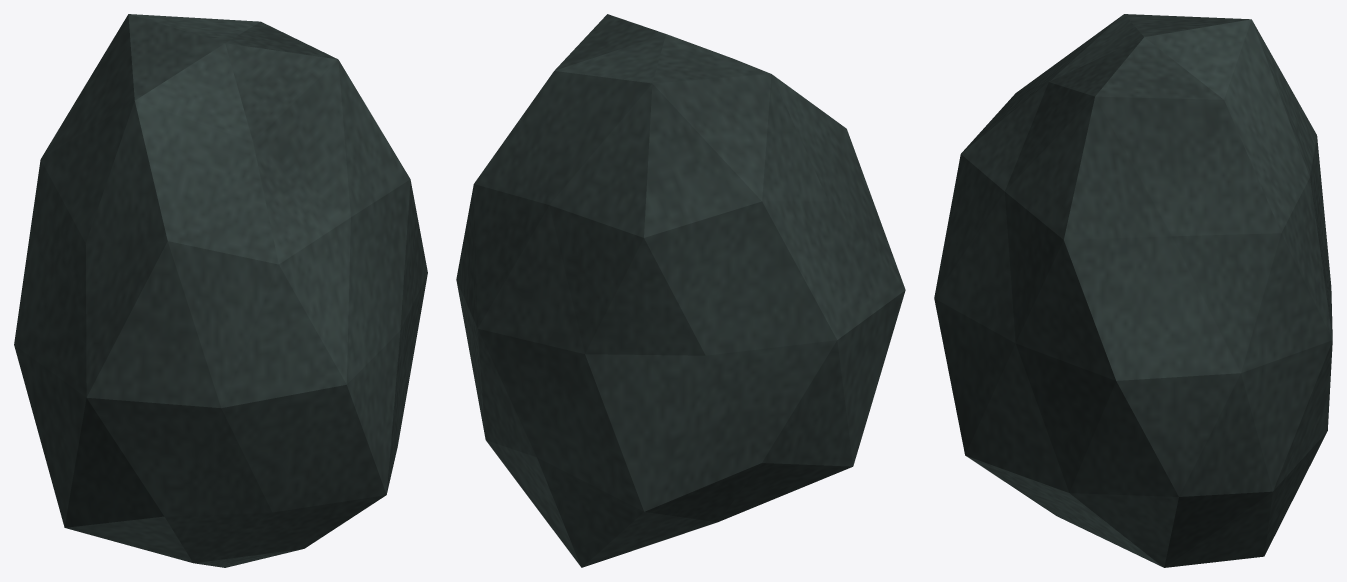
File: rock.glb
3 renders of one model, left to right at view 1: azimuth 30°, elevation 25°; view 2: azimuth 150°, elevation 25°; view 3: azimuth 270°, elevation 25°, orthographic. The views are drawn at different scales.
Parts seen in each view (by area): view 1: Fractured bedrock.186; view 2: Fractured bedrock.186; view 3: Fractured bedrock.186.
Boxes of the visible parts, <box> form: Fractured bedrock.186: <box>14,14,427,567</box>; Fractured bedrock.186: <box>456,14,905,567</box>; Fractured bedrock.186: <box>934,14,1332,567</box>.
Bounding box in the file's own units: 0.7649 × 1 × 0.7129.
1 material, 1 textured.
